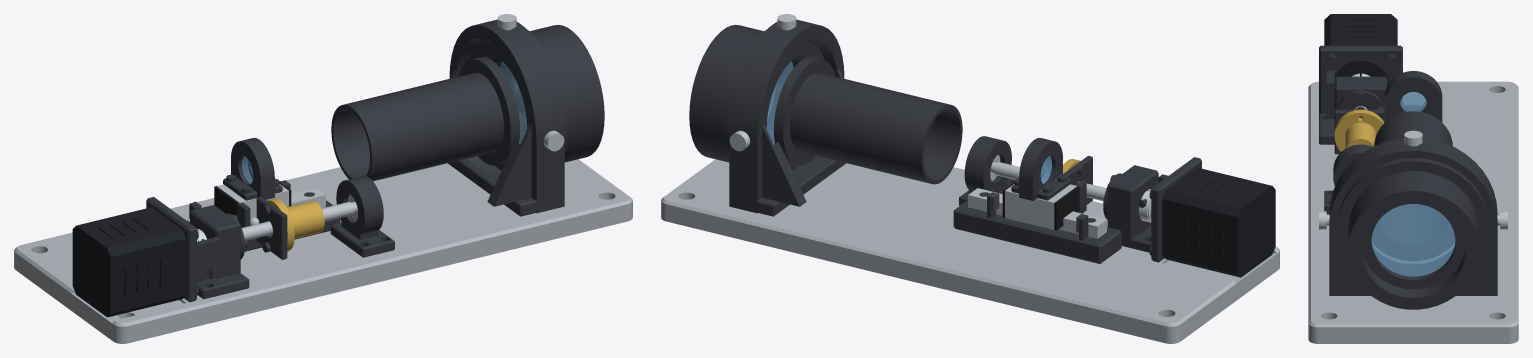
The model's file is 调焦主体_v0.8.glb.
The picture shows the model from 3 angles, left to right: view 1: azimuth 30°, elevation 25°; view 2: azimuth 150°, elevation 25°; view 3: azimuth 270°, elevation 25°; orthographic projection. The views are drawn at different scales.
Visible parts, largest first — view 1: Z01_ZBase, Z18_ShadeTube, O01_XYMount, Z13_Motor, O02_ObjTube, Z14_DriveBracket, Z11_BearingSup, Z04_LensHolder, Z08_NutHousing, Z07b_NutBracket, Z09_Screw, O05_CenterScrews (+3 smaller); view 2: Z01_ZBase, Z18_ShadeTube, O01_XYMount, Z13_Motor, O02_ObjTube, Z14_DriveBracket, Z22_Riser, Z04_LensHolder, Z11_BearingSup, Z03_Carriage, Z02_Rail, Z03b_EndSeals (+4 smaller); view 3: Z01_ZBase, O02_ObjTube, O01_XYMount, Z18_ShadeTube, O03_Objective, Z14_DriveBracket, Z13_Motor, O04_ObjRing, Z04_LensHolder, Z08_NutHousing, Z11_BearingSup, O05_CenterScrews (+5 smaller).
Part boxes in pixels (box(x1,y1,x2,y2)): Z01_ZBase: box(14, 159, 632, 343); Z18_ShadeTube: box(331, 57, 520, 181); O01_XYMount: box(448, 19, 564, 216); Z13_Motor: box(72, 207, 185, 317); O02_ObjTube: box(469, 24, 604, 170); Z14_DriveBracket: box(146, 197, 249, 302); Z11_BearingSup: box(330, 176, 394, 257); Z04_LensHolder: box(223, 138, 282, 200); Z08_NutHousing: box(267, 198, 324, 251); Z07b_NutBracket: box(256, 196, 287, 259); Z09_Screw: box(242, 201, 357, 240); O05_CenterScrews: box(497, 14, 564, 151); Z01_ZBase: box(661, 159, 1279, 343); Z18_ShadeTube: box(773, 57, 962, 184); O01_XYMount: box(729, 19, 845, 216); Z13_Motor: box(1162, 167, 1275, 277); O02_ObjTube: box(689, 24, 824, 170); Z14_DriveBracket: box(1107, 157, 1201, 262); Z22_Riser: box(953, 200, 1121, 263); Z04_LensHolder: box(1011, 138, 1070, 200); Z11_BearingSup: box(959, 136, 1014, 205); Z03_Carriage: box(1005, 184, 1076, 229); Z02_Rail: box(968, 188, 1106, 238); Z03b_EndSeals: box(1002, 178, 1079, 230); Z01_ZBase: box(1308, 81, 1518, 343); O02_ObjTube: box(1337, 158, 1489, 309); O01_XYMount: box(1329, 138, 1497, 295); Z18_ShadeTube: box(1372, 111, 1454, 260); O03_Objective: box(1371, 204, 1455, 276); Z14_DriveBracket: box(1319, 45, 1402, 144); Z13_Motor: box(1324, 14, 1397, 85); O04_ObjRing: box(1361, 203, 1465, 289); Z04_LensHolder: box(1384, 71, 1442, 122); Z08_NutHousing: box(1334, 109, 1384, 151); Z11_BearingSup: box(1324, 144, 1372, 214); O05_CenterScrews: box(1319, 130, 1507, 229).
Size of the model in its own units: 220 by 73 by 80.
